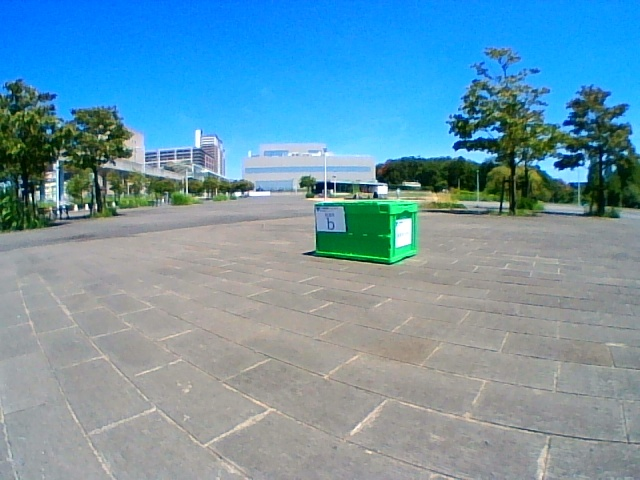green_box: (314, 201, 416, 264)
tag_b: (316, 206, 345, 231)
